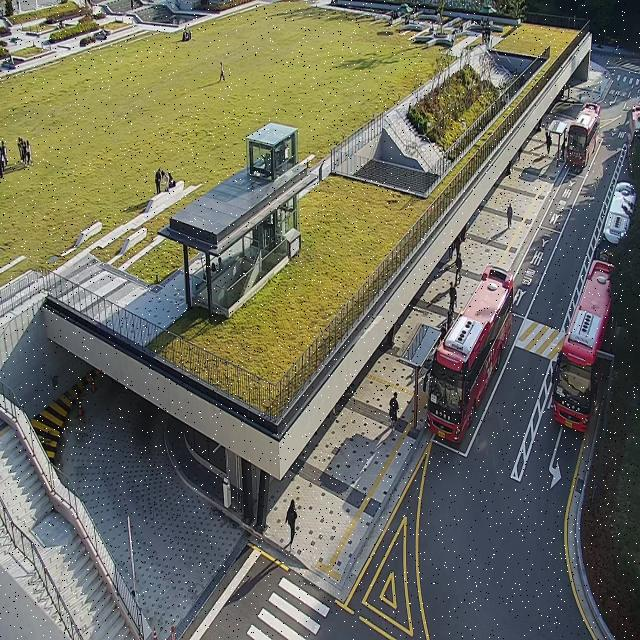queue: (415, 328, 443, 433)
